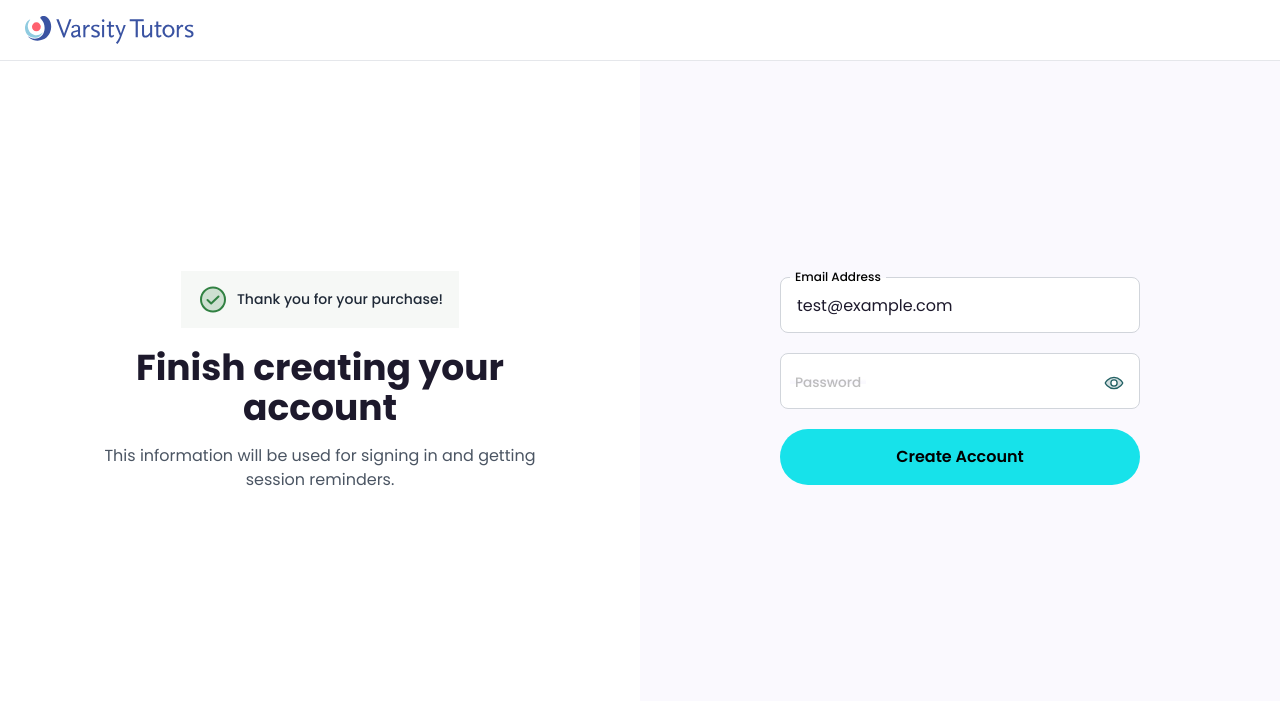
Scenario: AccountCreationClient › shows error for invalid email format
This screenshot has width=1280, height=720.
// Clear email and type invalid
Replace the text in the field with "invalid-email" at (960, 305), box [780,277,1140,333]
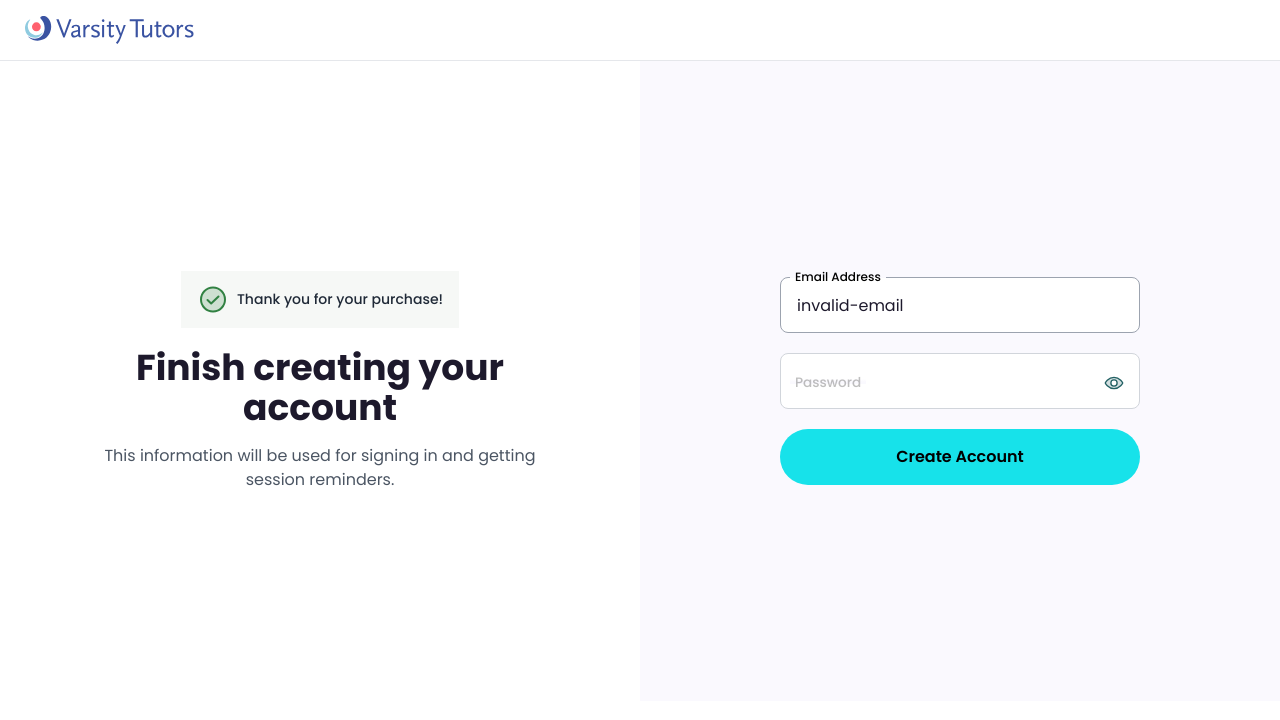
// Trigger blur to validate
Press Tab
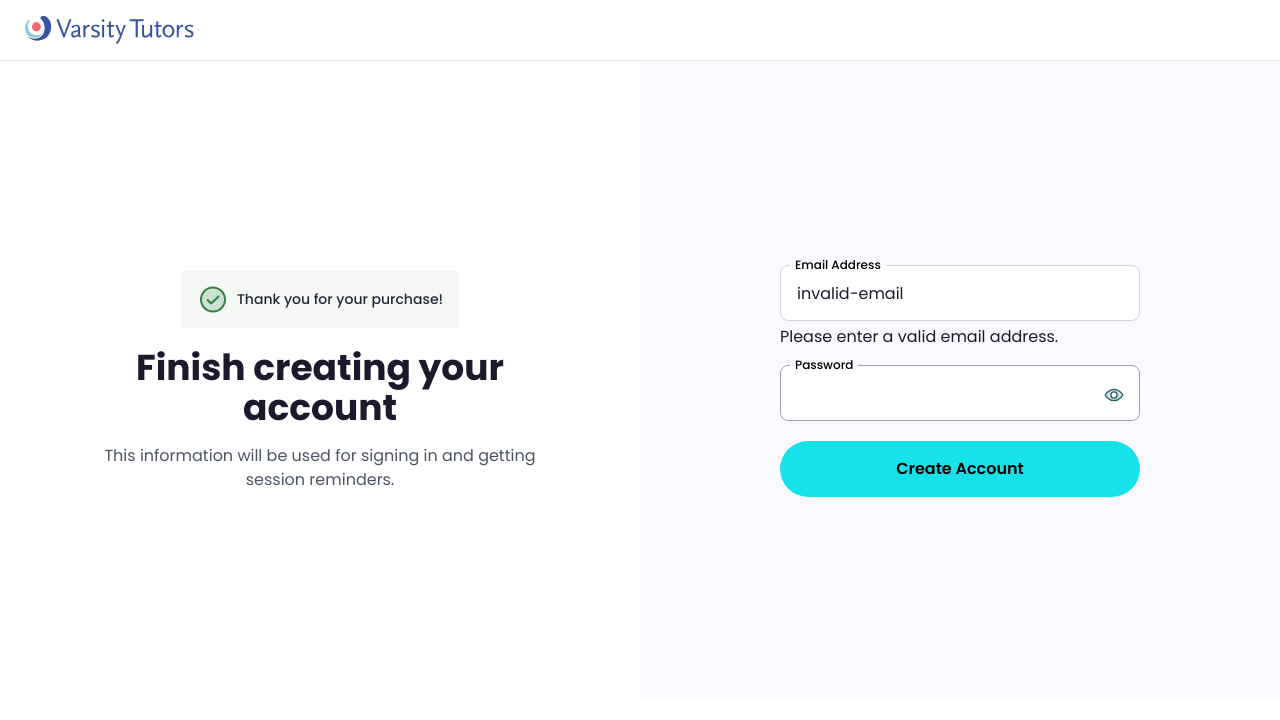
Expected: the text "Please enter a valid email address." is shown, [780,325,1058,348]
